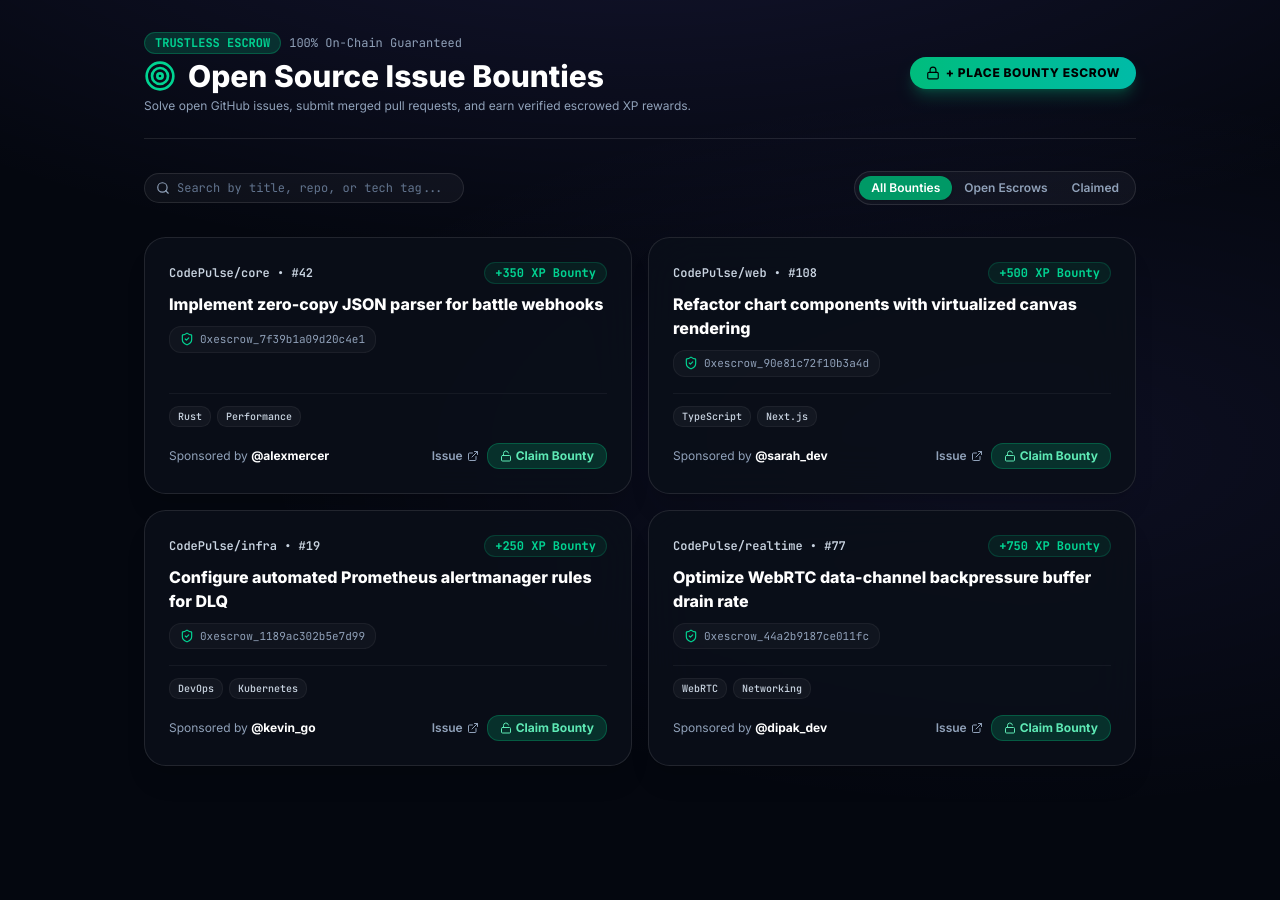
Test: BountiesPage & BountyEscrowDrawer › opens claim review drawer when clicking Claim Bounty on an open card
Step 1. Click the button with test id "claim-bounty-btn-bty_1" → (547, 456), box [487,442,607,468]
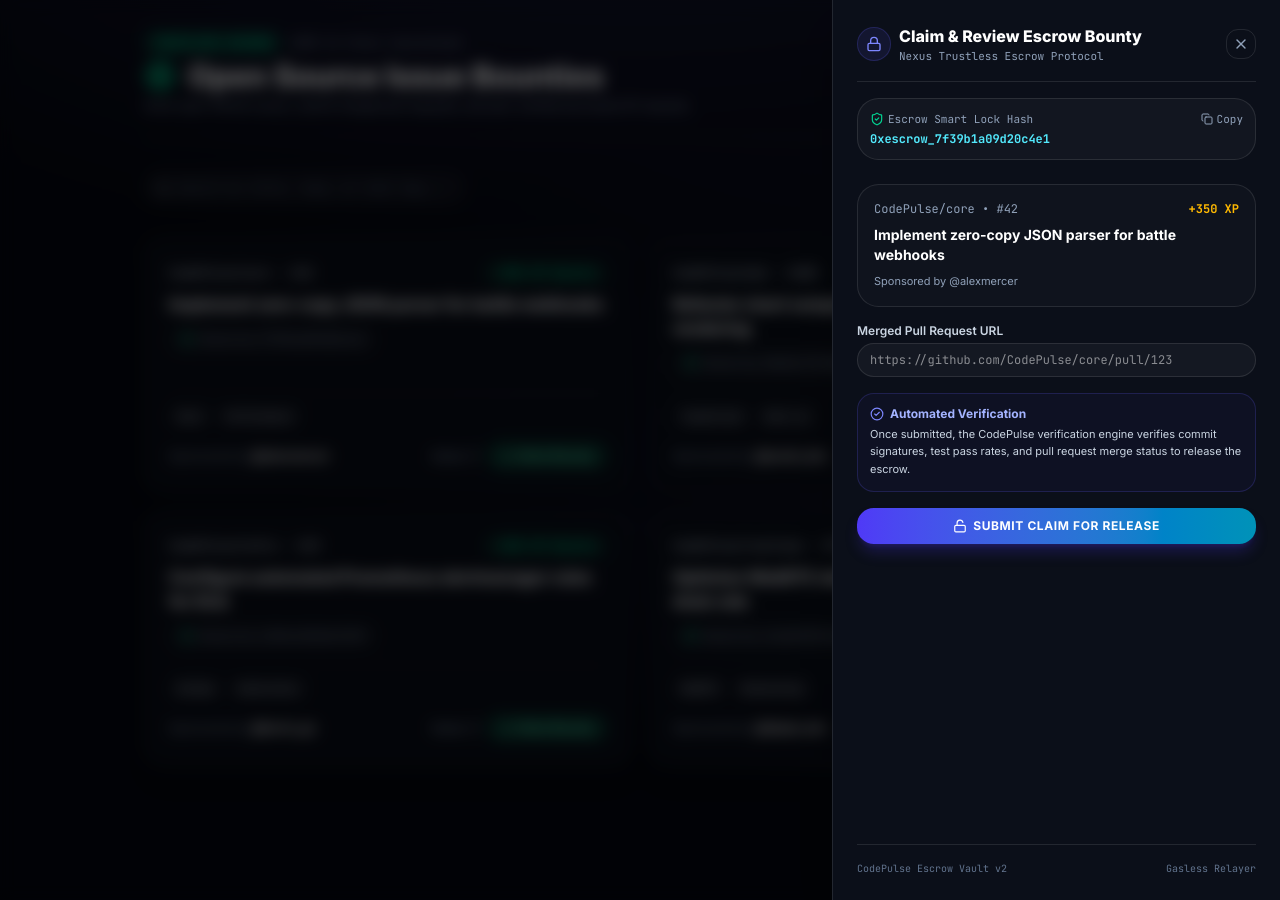
Check: the element with test id "bounty-escrow-drawer" is shown, box [832,0,1279,899]
Check: the heading "Claim & Review Escrow Bounty" is shown, box [899,24,1142,48]
Check: the field with test id "claim-pr-url-input" is shown, box [857,342,1256,376]
